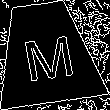M_N: (17, 25, 76, 81)
